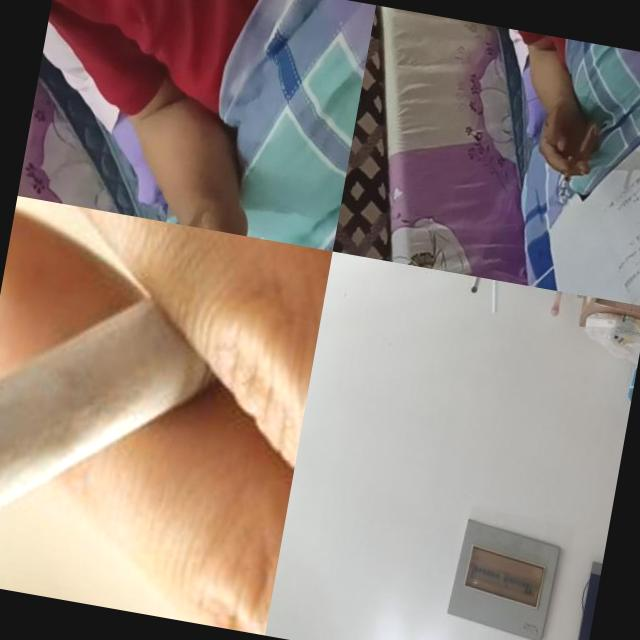smoke: (0, 195, 322, 633), (482, 278, 503, 314), (559, 155, 574, 197), (470, 276, 486, 296)
